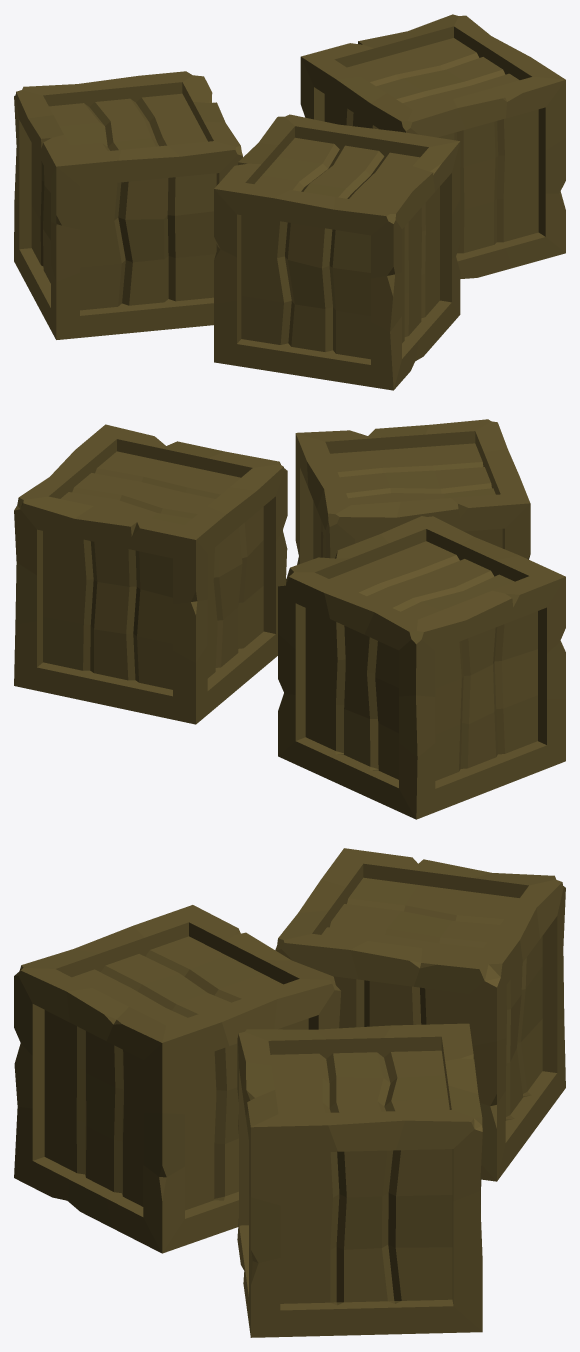
The model's file is crate_comp_1.fbx.
The picture shows the model from 3 angles, top to bottom: view 1: azimuth 30°, elevation 25°; view 2: azimuth 150°, elevation 25°; view 3: azimuth 270°, elevation 25°; orthographic projection. The views are drawn at different scales.
Visible parts, largest first — view 1: crate_comp_1; view 2: crate_comp_1; view 3: crate_comp_1.
Boxes of the visible parts, box(x1,y1,x2,y2) form: crate_comp_1: box(14, 14, 565, 390); crate_comp_1: box(14, 419, 565, 819); crate_comp_1: box(14, 848, 565, 1337).
Bounding box in the file's own units: 245 × 86.34 × 205.
